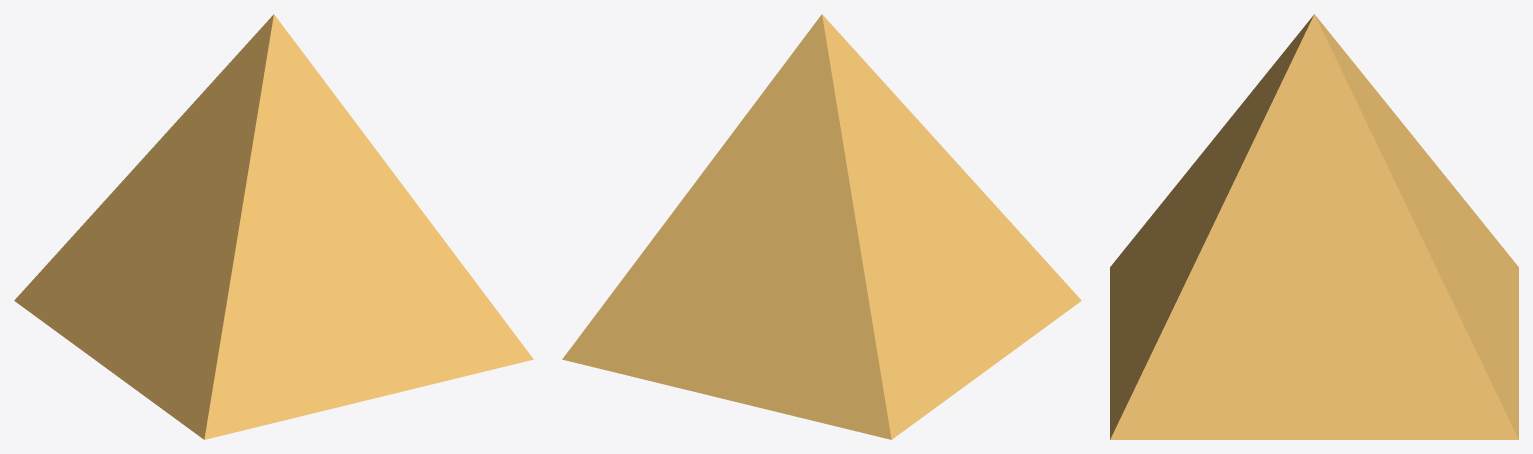
3 renders of one model, left to right at view 1: azimuth 30°, elevation 25°; view 2: azimuth 150°, elevation 25°; view 3: azimuth 270°, elevation 25°, orthographic. The views are drawn at different scales.
Size of the model in its own units: 1.2 by 1.1 by 1.2.
